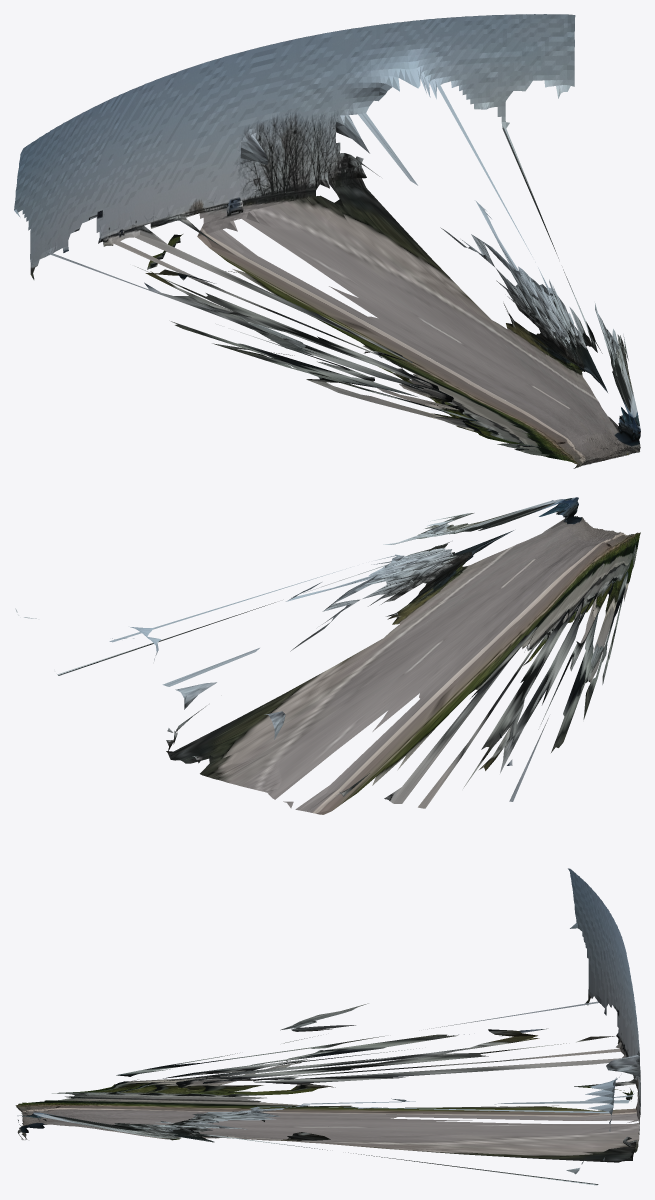
3 views of the same model, one above another, from view 1: azimuth 30°, elevation 25°; view 2: azimuth 150°, elevation 25°; view 3: azimuth 270°, elevation 25° (orthographic). The views are drawn at different scales.
Parts seen in each view (by area): view 1: defaultobject; view 2: defaultobject; view 3: defaultobject.
Part boxes in pixels (x1,y1,x2,y2): defaultobject: [14, 14, 640, 468]; defaultobject: [15, 497, 640, 814]; defaultobject: [15, 868, 640, 1185].
Bounding box in the file's own units: 40.97 × 13.54 × 44.68.
1 material, 1 textured.
